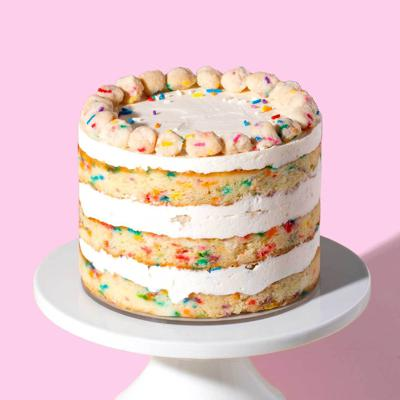cake: (70, 63, 327, 323)
